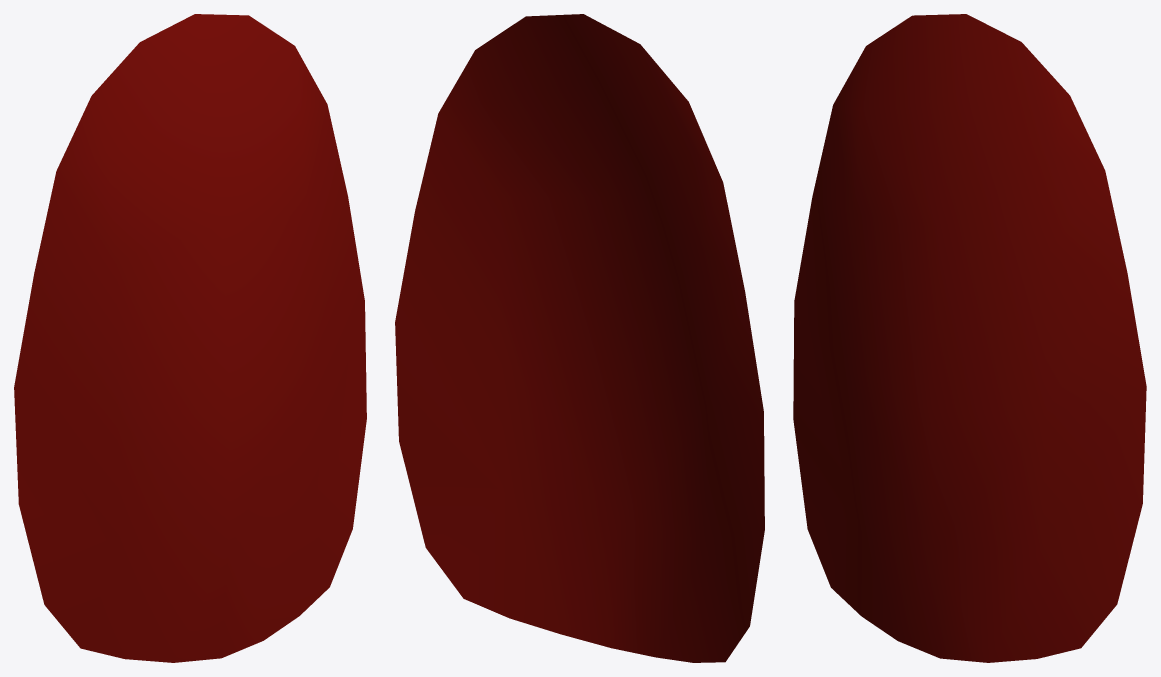
Rendered from MD_nail_natural_HandL.Index.fbx.
The picture shows the model from 3 angles, left to right: view 1: azimuth 30°, elevation 25°; view 2: azimuth 150°, elevation 25°; view 3: azimuth 330°, elevation 25°; orthographic projection. The views are drawn at different scales.
Visible parts, largest first — view 1: MD_nail_natural_HandL.Index; view 2: MD_nail_natural_HandL.Index; view 3: MD_nail_natural_HandL.Index.
Boxes of the visible parts, <box> form: MD_nail_natural_HandL.Index: <box>14,14,366,662</box>; MD_nail_natural_HandL.Index: <box>395,14,764,662</box>; MD_nail_natural_HandL.Index: <box>793,14,1146,662</box>.
Size of the model in its own units: 0.7161 by 1.22 by 0.1438.
